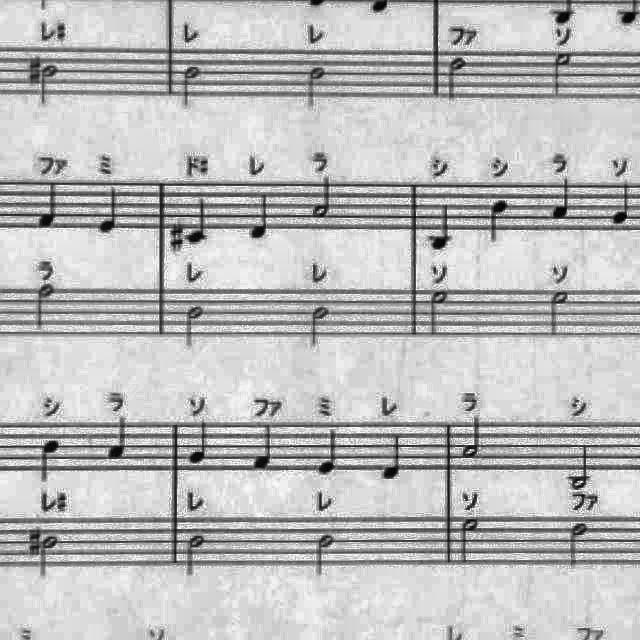Diez: (26, 522, 44, 558), (26, 52, 44, 88), (169, 220, 187, 256)
Half-note: (564, 438, 594, 492), (426, 285, 454, 339), (444, 52, 472, 104), (546, 288, 574, 340), (455, 512, 481, 568), (302, 63, 330, 114), (31, 280, 57, 334), (309, 172, 336, 224), (312, 530, 340, 580), (306, 301, 334, 351), (183, 531, 211, 581), (183, 304, 210, 354), (178, 64, 206, 112), (459, 414, 485, 464), (550, 49, 576, 99), (566, 522, 590, 574), (36, 62, 60, 110), (38, 532, 61, 580)
Quarter-note: (424, 200, 456, 256), (378, 431, 408, 484), (34, 178, 62, 232), (184, 194, 212, 246), (486, 194, 514, 246), (314, 426, 342, 478), (186, 417, 214, 469), (251, 422, 279, 474), (248, 190, 276, 242), (36, 434, 64, 486), (103, 416, 133, 464), (97, 183, 123, 237), (608, 179, 636, 229), (548, 175, 576, 225)
